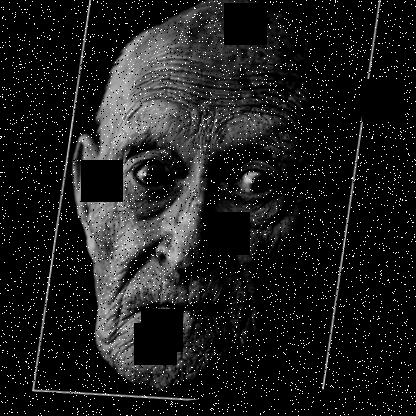Male: (41, 0, 364, 413)
